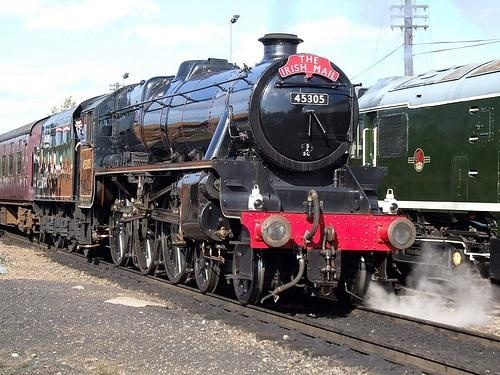train: (1, 36, 414, 315), (342, 58, 500, 300)
